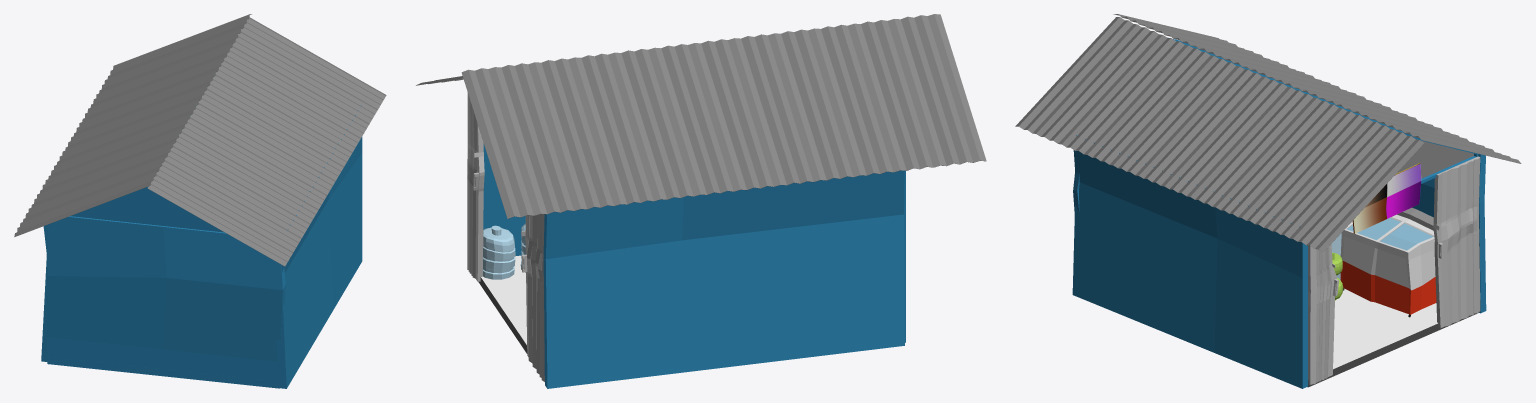
File: warung2.fbx
3 renders of one model, left to right at view 1: azimuth 30°, elevation 25°; view 2: azimuth 150°, elevation 25°; view 3: azimuth 270°, elevation 25°, orthographic. The views are drawn at different scales.
Visible parts, largest first — view 1: Warung.003; view 2: Warung.003; view 3: Warung.003.
Part boxes in pixels (x1,y1,x2,y2): Warung.003: (14,14,386,388); Warung.003: (416,14,986,388); Warung.003: (1015,14,1521,388).
Bounding box in the file's own units: 1886 × 931 × 1894.
